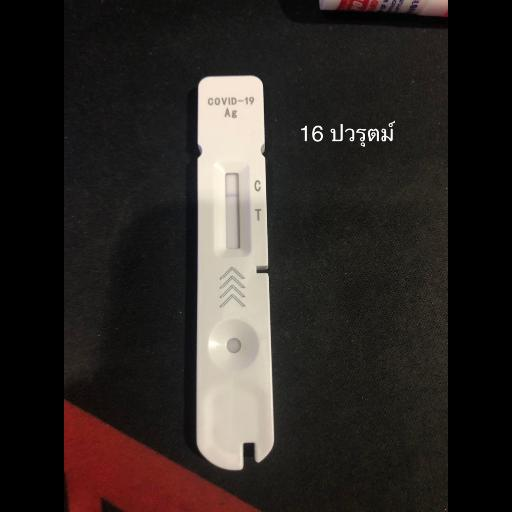Neg: (194, 72, 274, 470)
